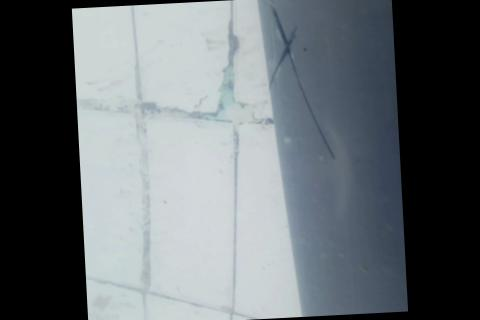keretakan: (258, 0, 338, 163)
